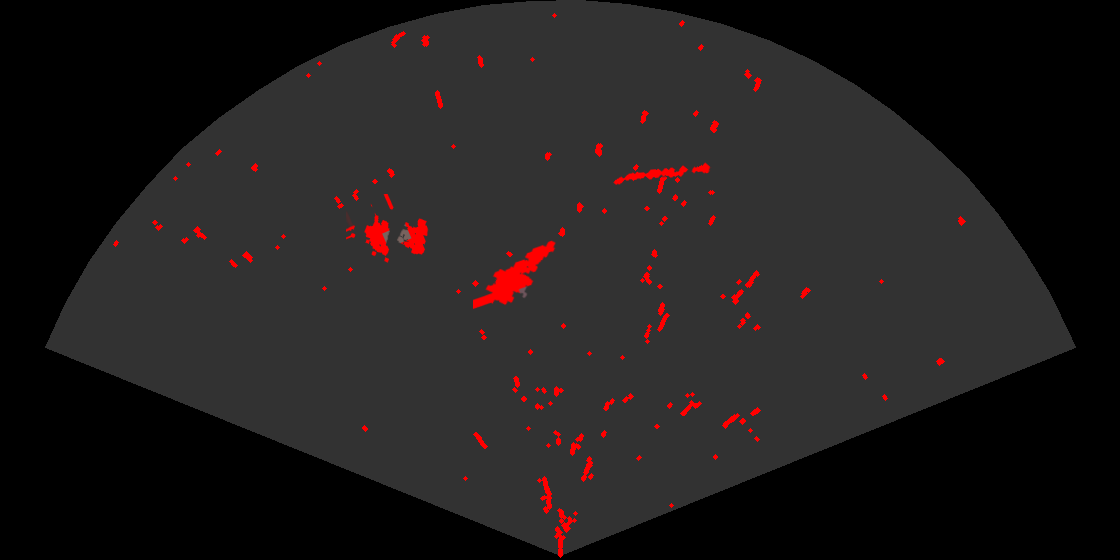cage: (346, 194, 430, 264)
chain: (612, 161, 712, 186)
frogman: (473, 239, 557, 311)
